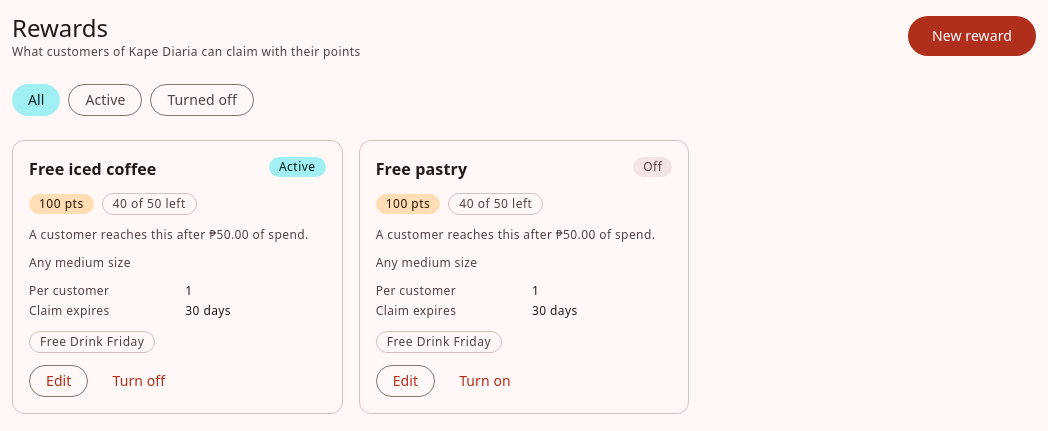
Scenario: RewardsManager: the list › filters to the rewards that are turned off
This screenshot has width=1048, height=431.
Click the button "Turned off" at (202, 100), box x1=150 y1=84 x2=254 y2=116
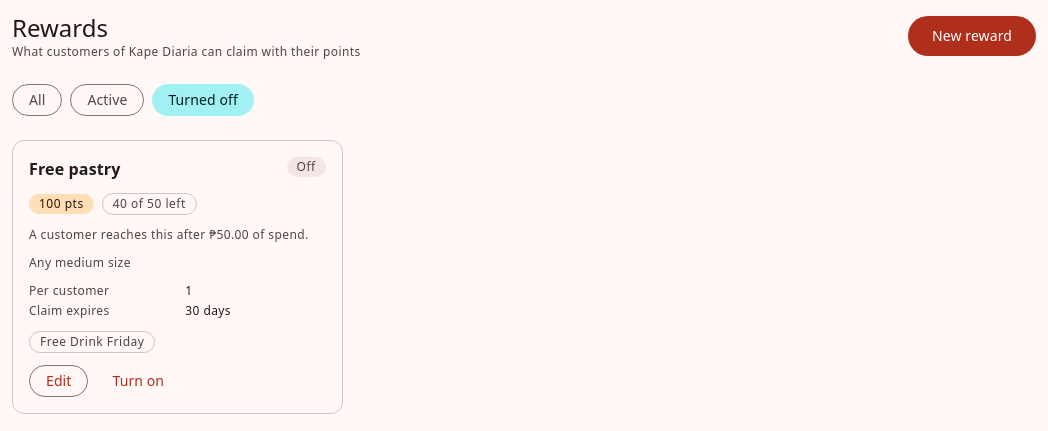
expect the text "Free pastry" is shown: met, box x1=29 y1=157 x2=120 y2=181
expect the text "Free iced coffee" is gone: met
